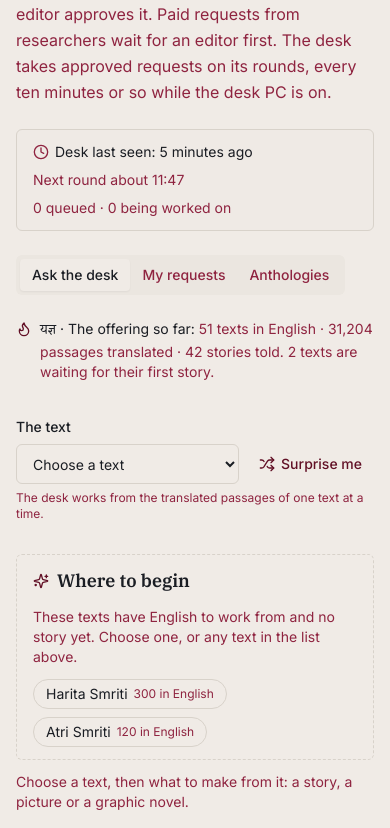
Test: /corpus/corner, guided › a first visit: the offering so far, where to begin, and no forms until a text is chosen
(page scrolled)
Expected: the element "The offering so far" shows "2 texts are waiting for their first story.", 16,319 -> 374,382
Expected: the text "Choose a text, then what to make from it: a story, a picture or a graphic novel." is shown, 16,772 -> 374,812
Step 1. Click the button "Harita Smriti 300 in English" → (130, 694), box 33,679 -> 227,709
(page scrolled)
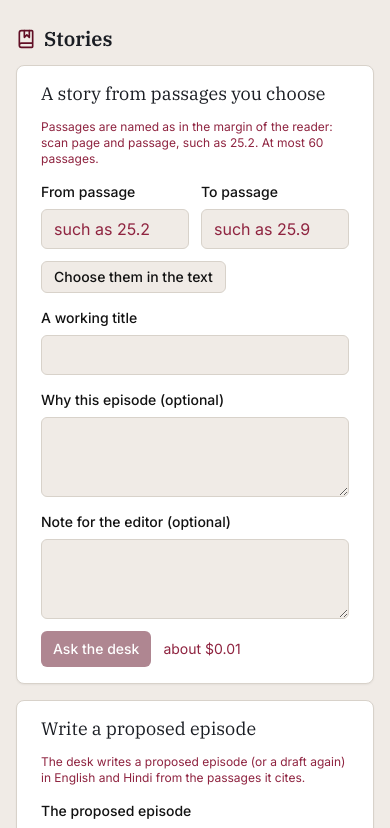
Expected: the form named "A story from passages you choose" is shown, 41,179 -> 349,667
Expected: the heading "Where to begin" is gone
